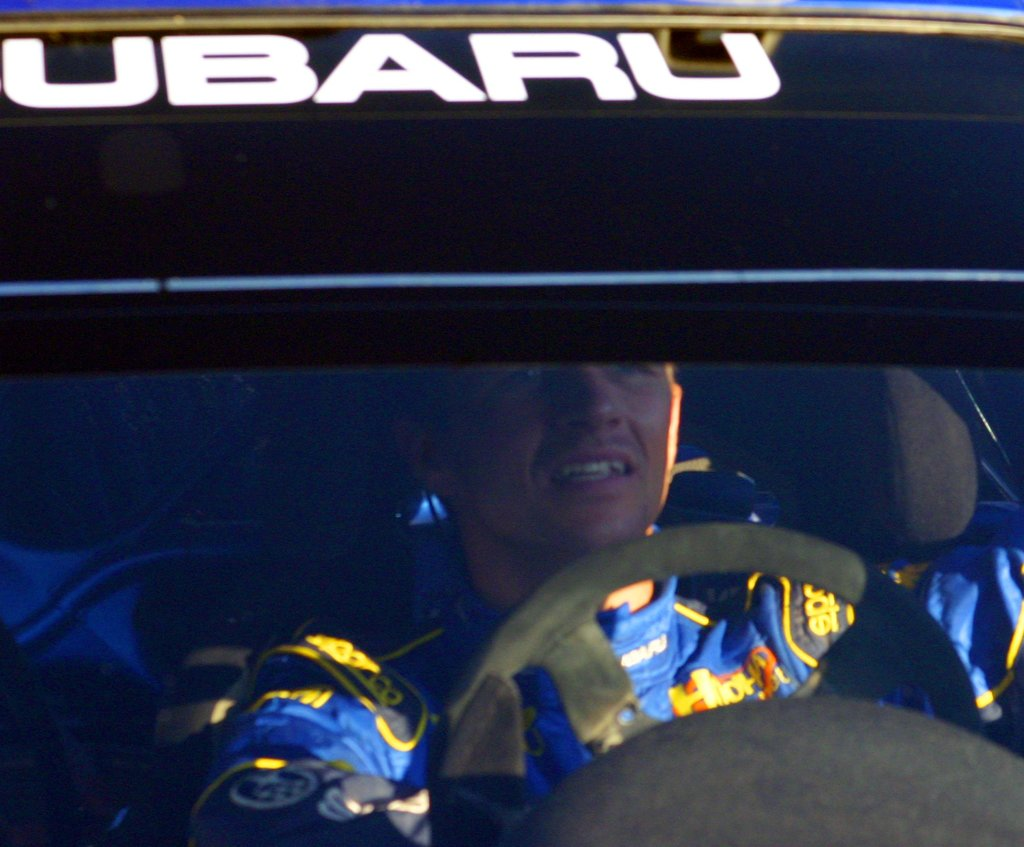Car: (10, 0, 1020, 846)
